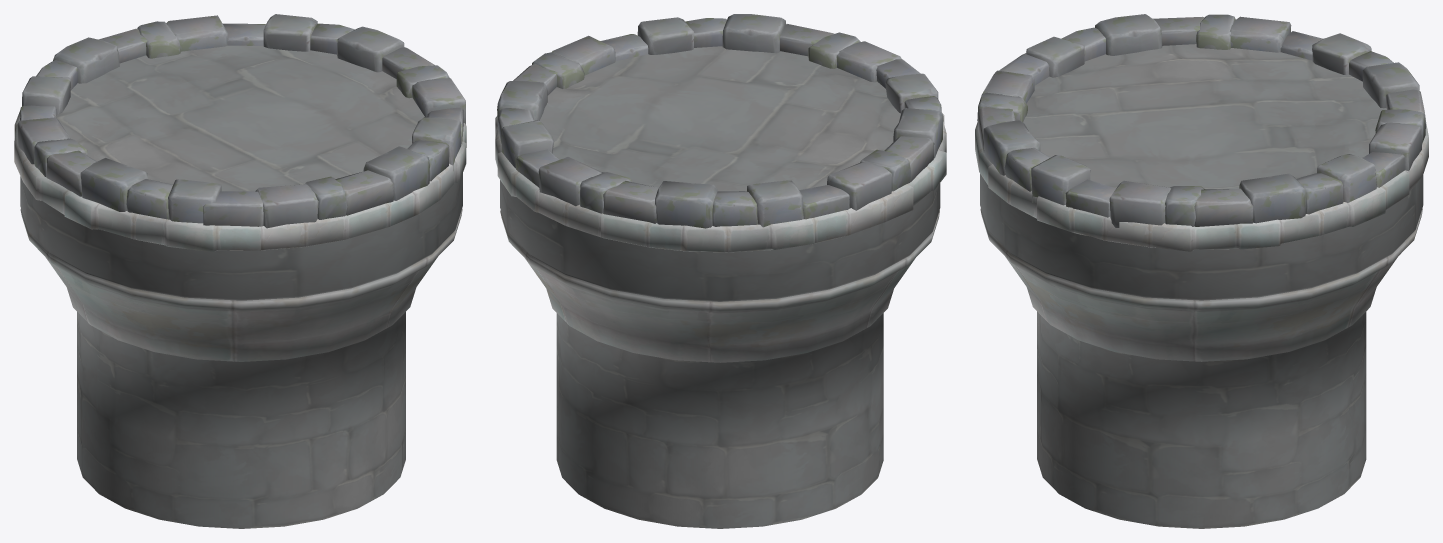
File: SM_TowerC_Top.fbx
3 renders of one model, left to right at view 1: azimuth 30°, elevation 25°; view 2: azimuth 150°, elevation 25°; view 3: azimuth 270°, elevation 25°, orthographic.
Visible parts, largest first — view 1: SM_TowerC_Top_LOD0; view 2: SM_TowerC_Top_LOD0; view 3: SM_TowerC_Top_LOD0.
Boxes of the visible parts, x1,y1,x2,y2 form: SM_TowerC_Top_LOD0: (14,14,466,528); SM_TowerC_Top_LOD0: (495,14,946,528); SM_TowerC_Top_LOD0: (975,14,1428,528).
Size of what is drawn, in the model's own units: 558 by 477 by 551.
